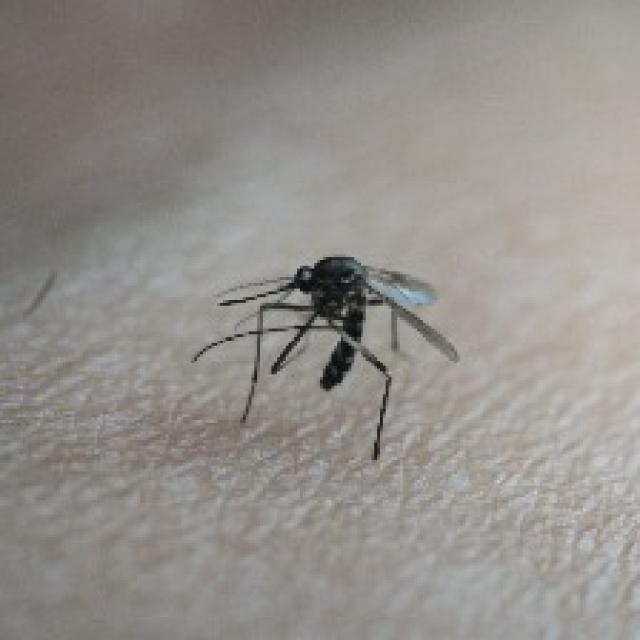aedes: (189, 251, 460, 460)
